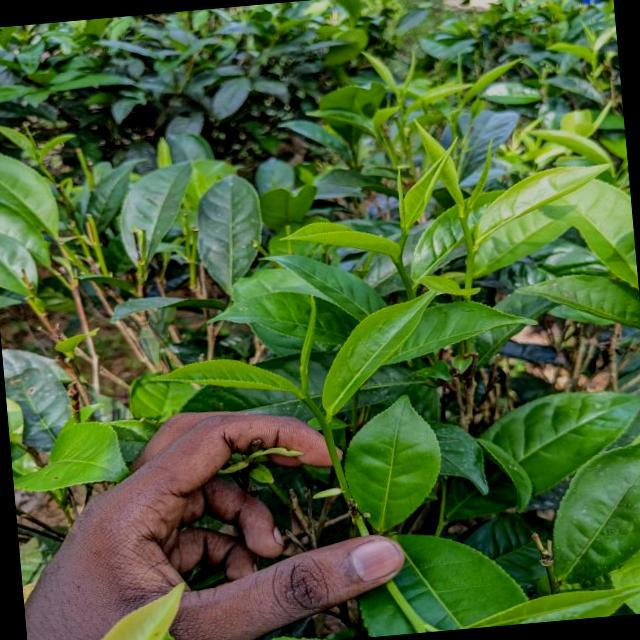Stem: (302, 396, 312, 405), (396, 262, 404, 272), (460, 218, 467, 225)
